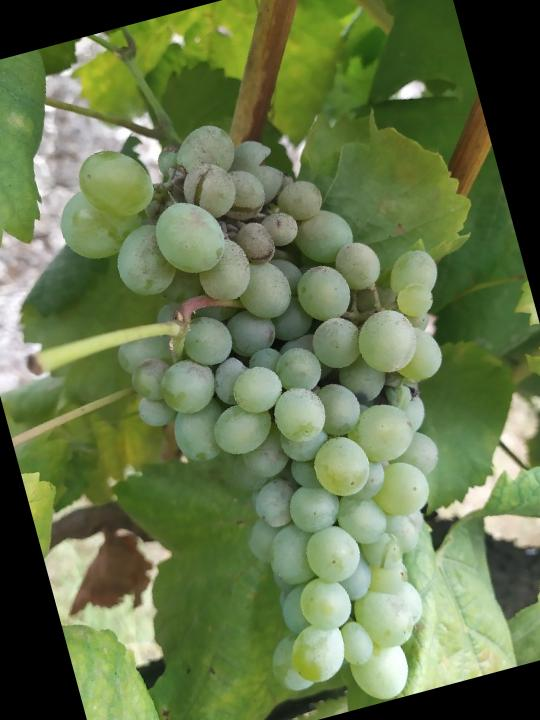grape: (40, 72, 540, 720)
